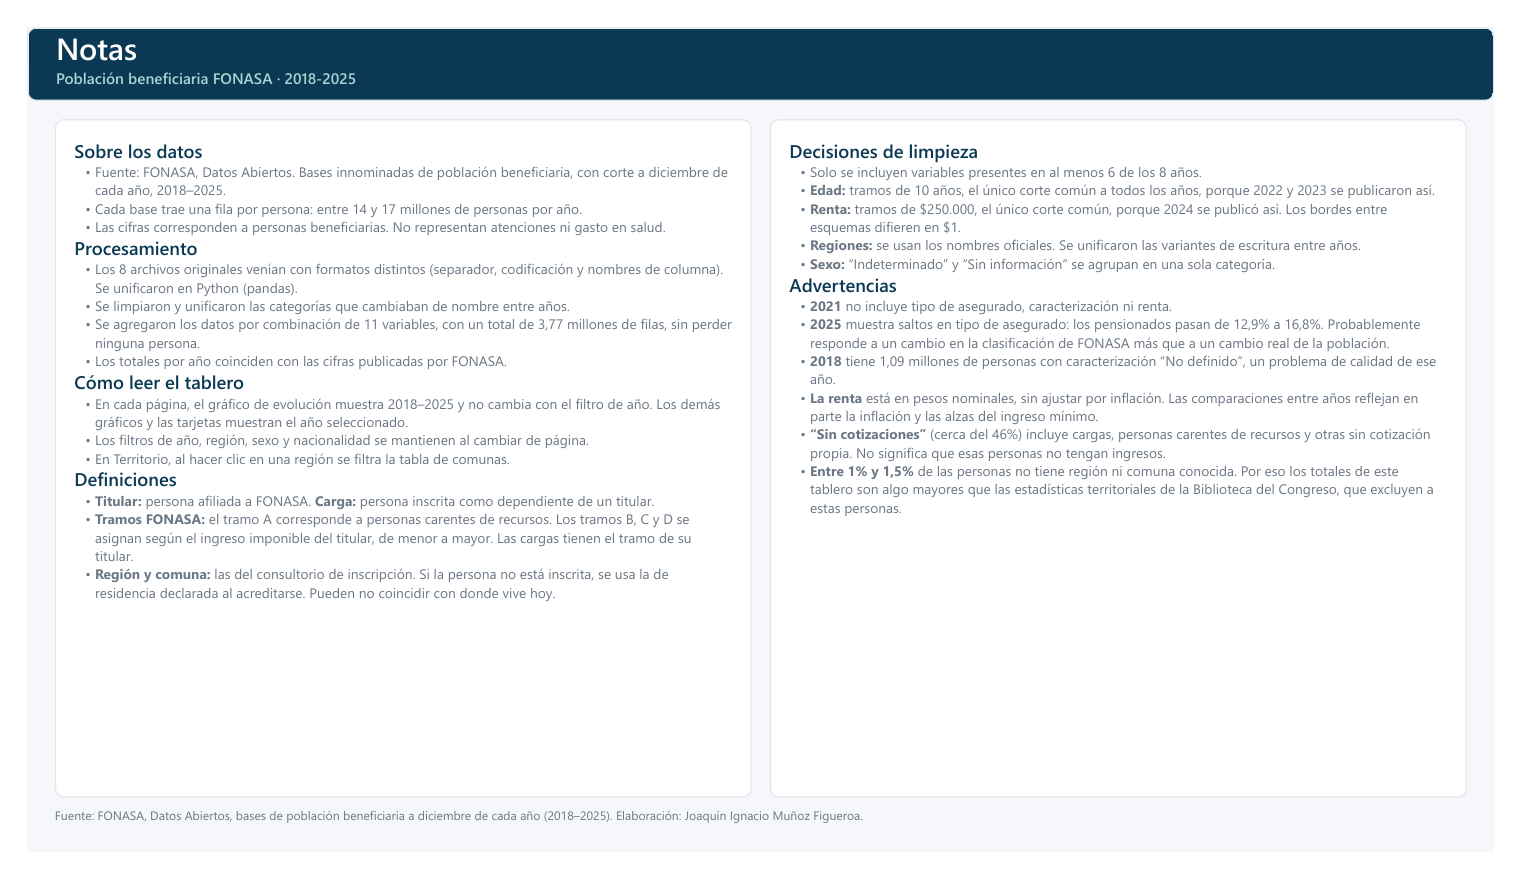

This screenshot's page, from the dashboard's own definition file:
{"tool":"powerbi","page":{"name":"Notas","canvas":[1280,720],"ordinal":6},"visuals":[{"type":"shape","box":[0,0,1280,64],"z":0},{"type":"textbox","title":"Resumen","box":[24.6,0,559.4,64.3],"z":1000},{"type":"pageNavigator","box":[600,14,656,36],"z":2000},{"type":"textbox","title":"Fuente: FONASA, Datos Abiertos, bases de población beneficiaria a diciembre de cada año (2018–2025). Elaboración: Joaquín Ignacio Muñoz Figueroa.","box":[24,680,1232,28],"z":2001},{"type":"textbox","box":[24,80,608,592],"z":2002},{"type":"textbox","box":[648,80,608,592],"z":2003}]}

Visuals, with their boxes in screenshot pixels (x1, y1, x2, y2), scaled from the page's 1280x720 canvas onto the 1522x880 screenshot:
shape: 0, 0, 1521, 78
"Resumen" textbox: 29, 0, 694, 79
pageNavigator: 713, 17, 1493, 61
"Fuente: FONASA, Datos Abiertos, bases de población beneficiaria a diciembre de cada año (2018–2025). Elaboración: Joaquín Ignacio Muñoz Figueroa." textbox: 29, 831, 1493, 865
textbox: 29, 98, 751, 821
textbox: 771, 98, 1493, 821
